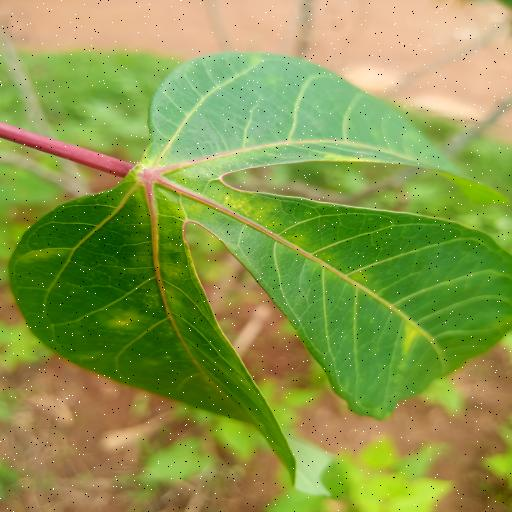Cassava_Mosaic: (8, 42, 512, 479)
